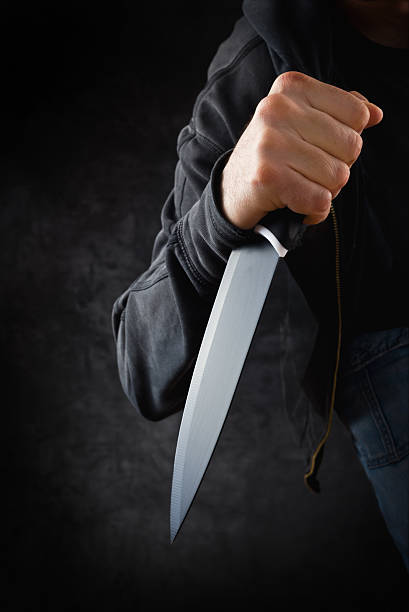knife: (165, 202, 306, 544)
